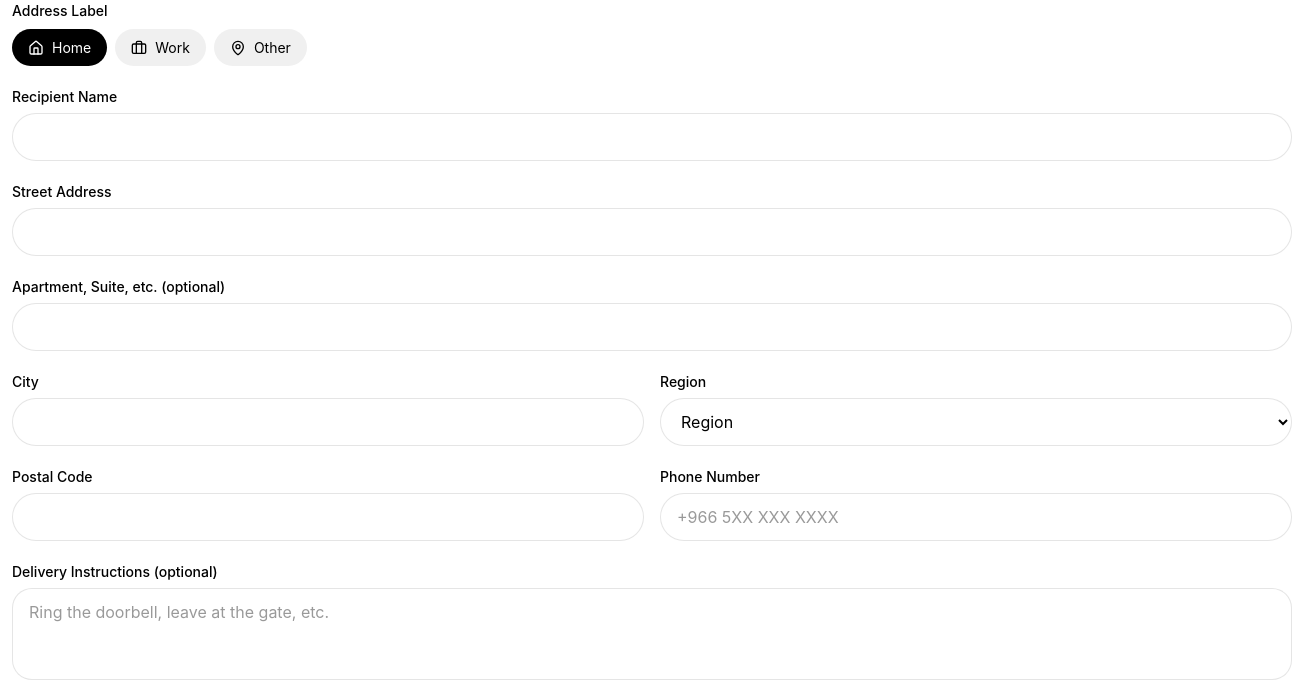
it: AddressForm › validates phone format (+966 or 0 prefix)
In the field below "Recipient Name": [652, 137] box [12,113,1292,161], type "John Doe"
In the field below "Street Address": [652, 232] box [12,208,1292,256], type "456 King Road Suite 100"
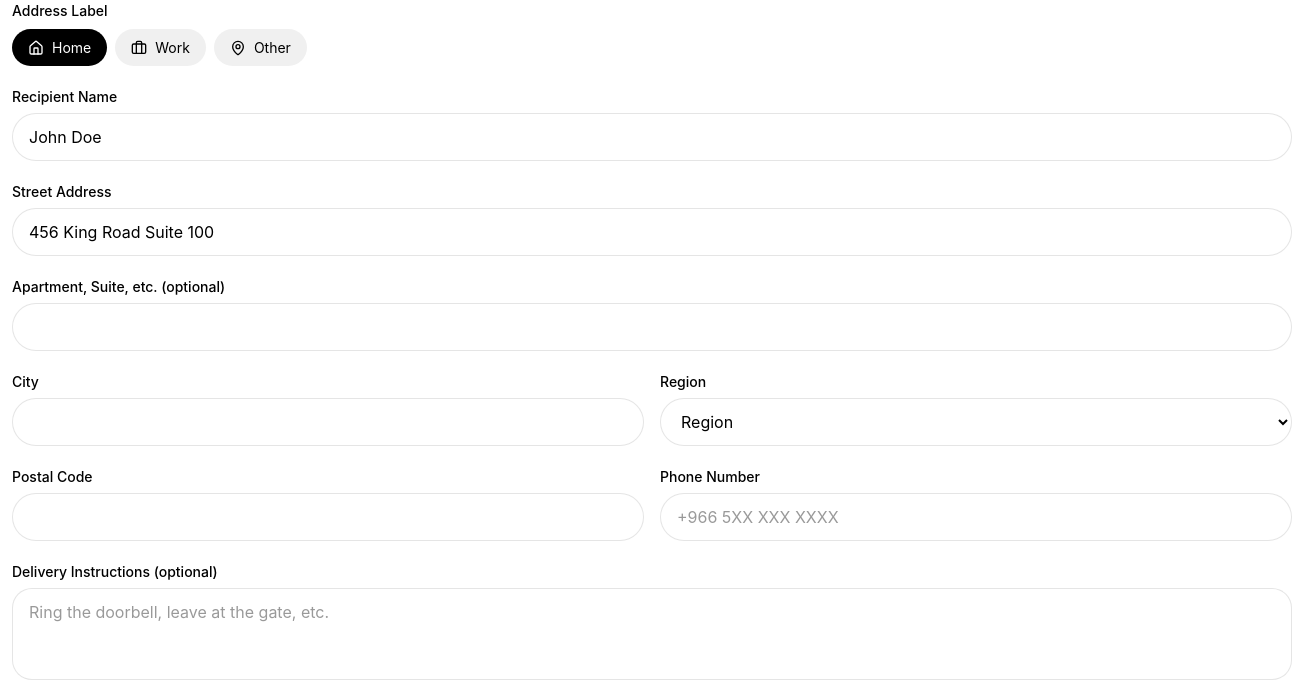
In the field below "City": [328, 422] box [12,398,644,446], type "Jeddah"
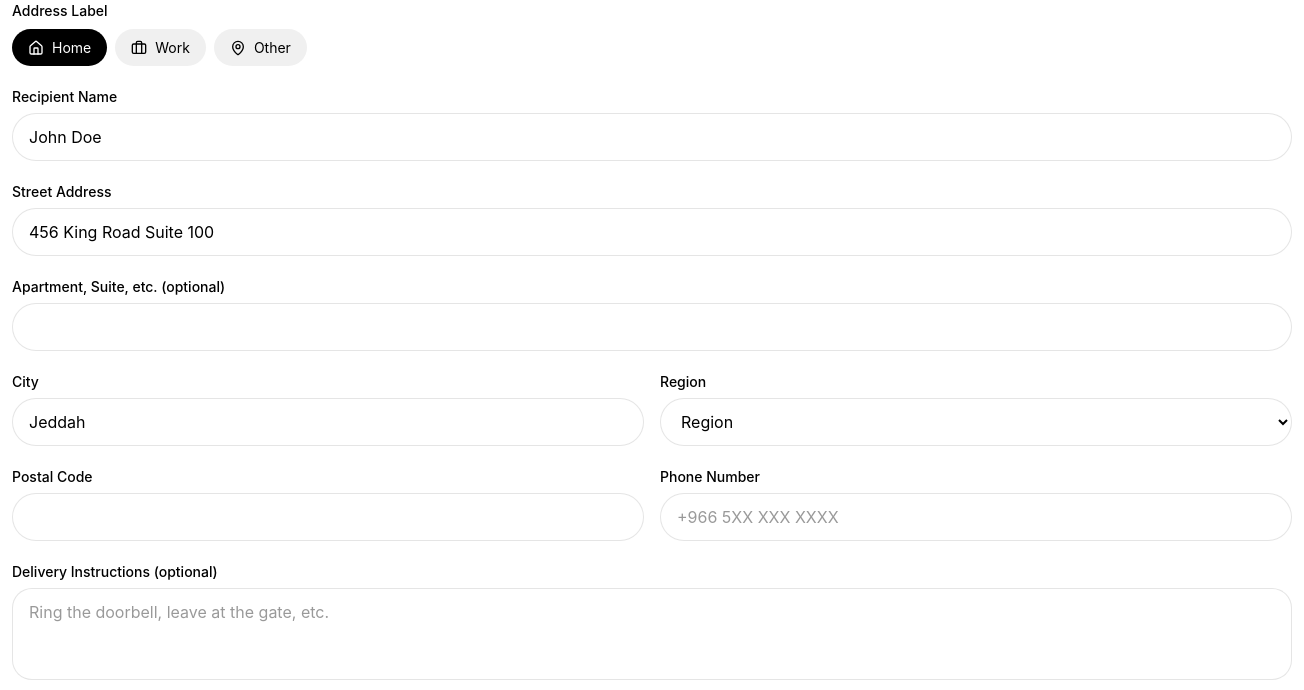
Select "Makkah" in the dropdown: [976, 422] box [660,398,1292,446]
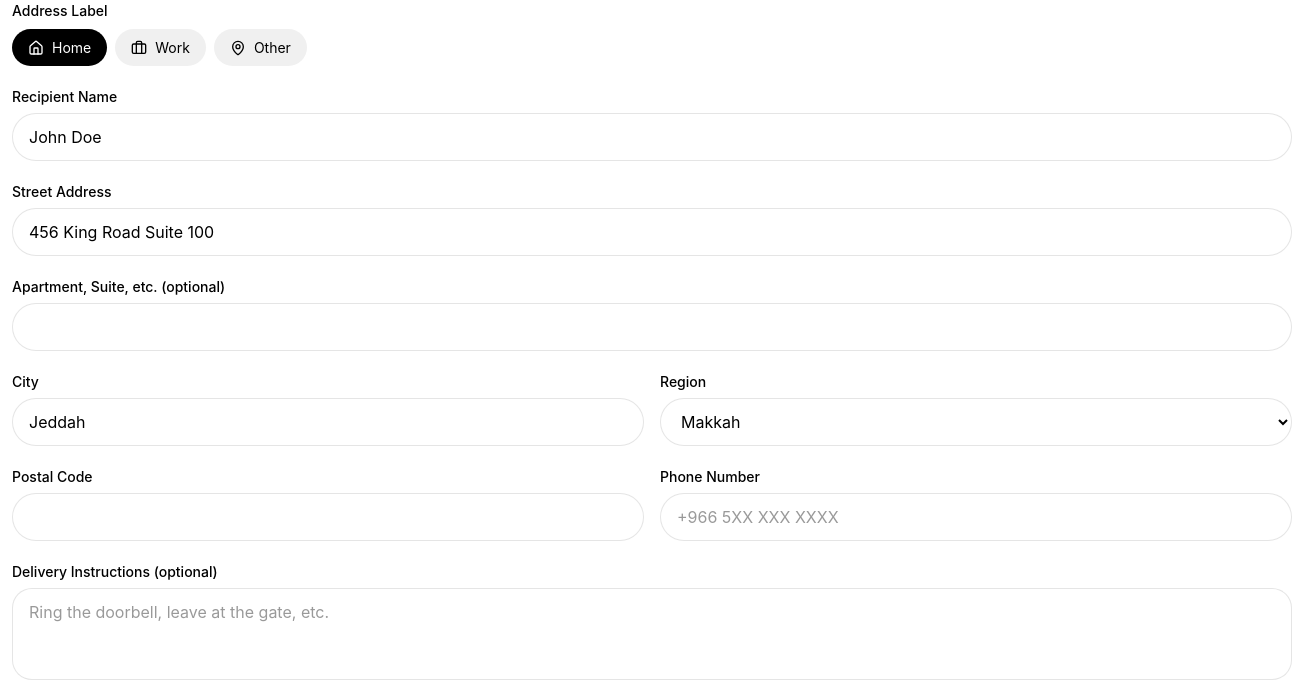
In the field below "Postal Code": [328, 517] box [12,493,644,541], type "21577"
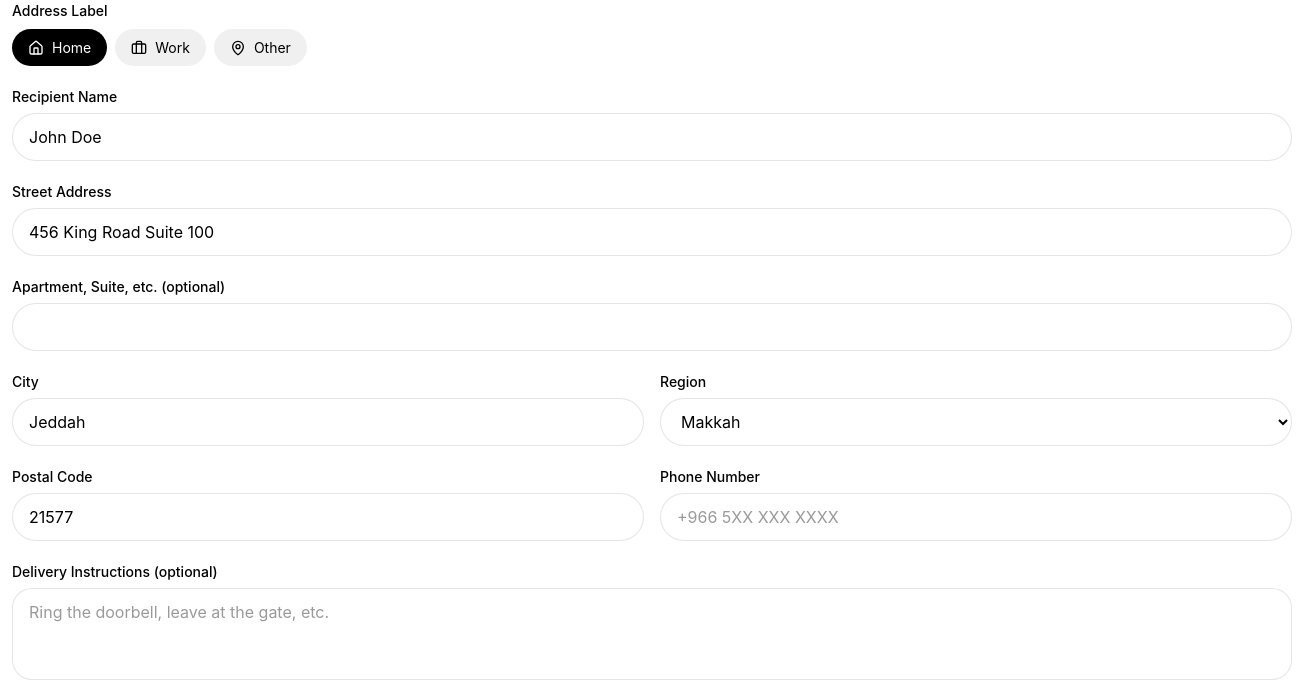
In the field with placeholder "+966 5XX XXX XXXX": [976, 517] box [660,493,1292,541], type "1234567890"
(page scrolled)
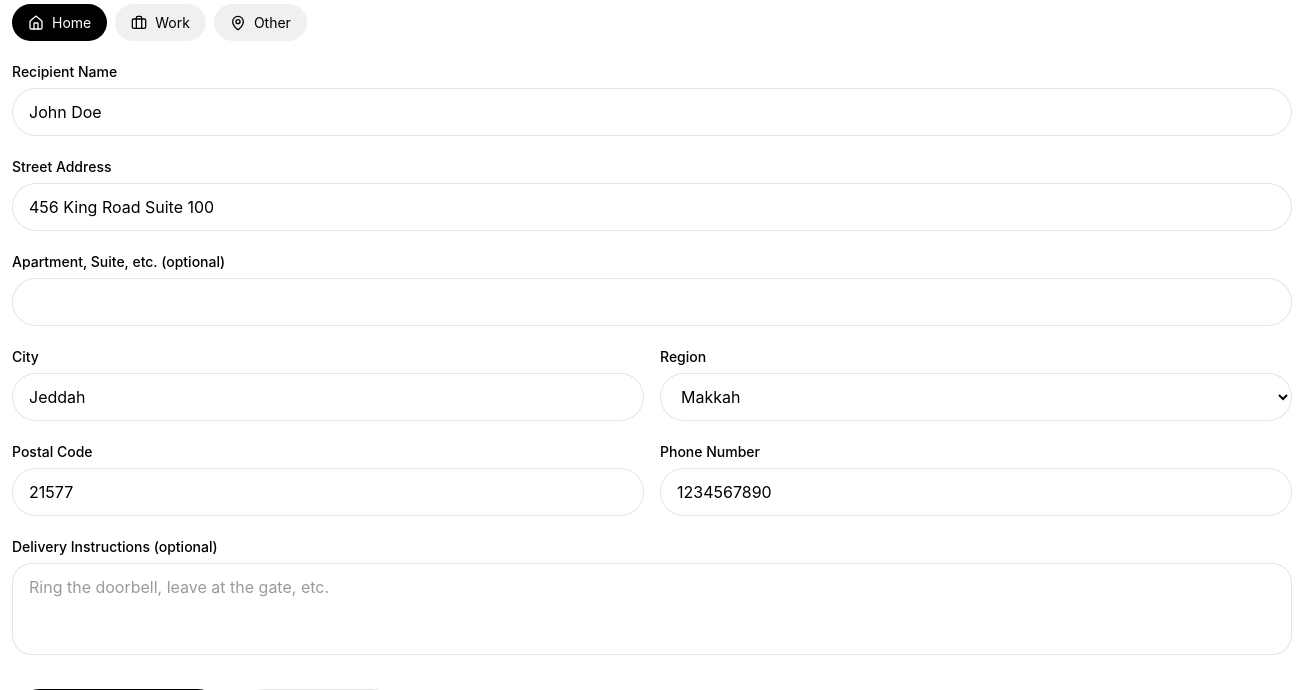
Submit the text "Save Address"
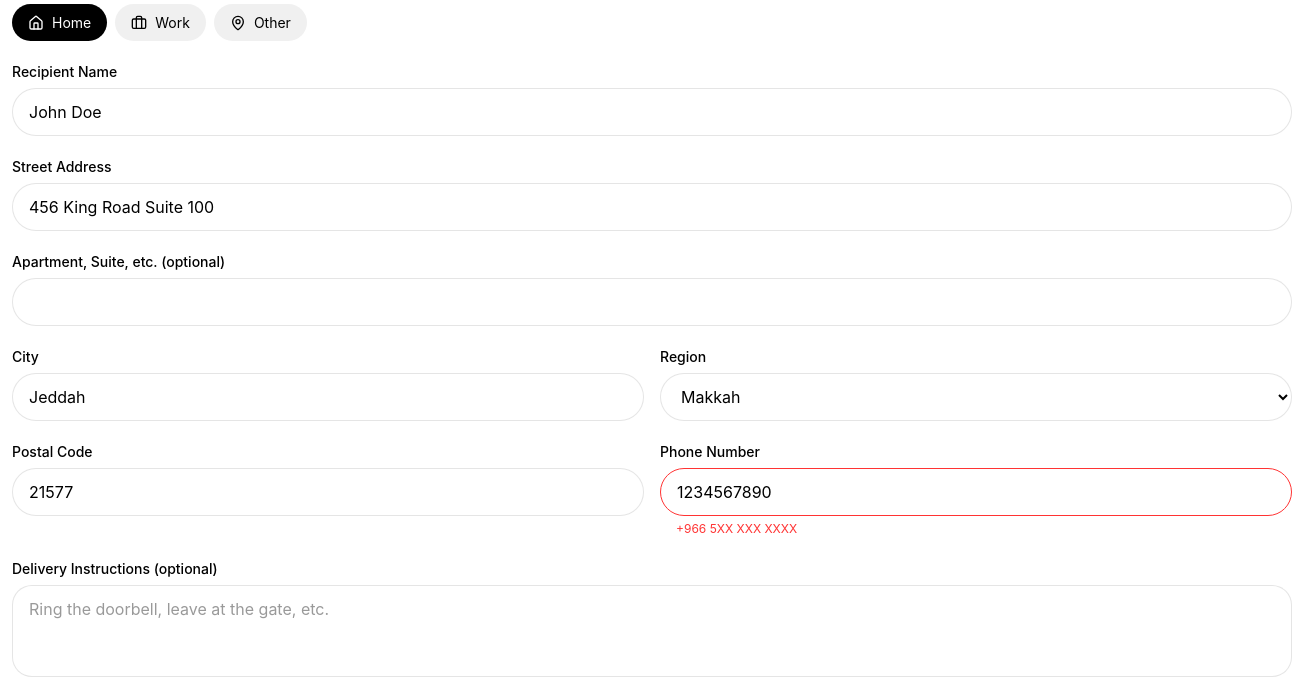
Expected: the text "+966 5XX XXX XXXX" is shown, [676,521,797,536]
